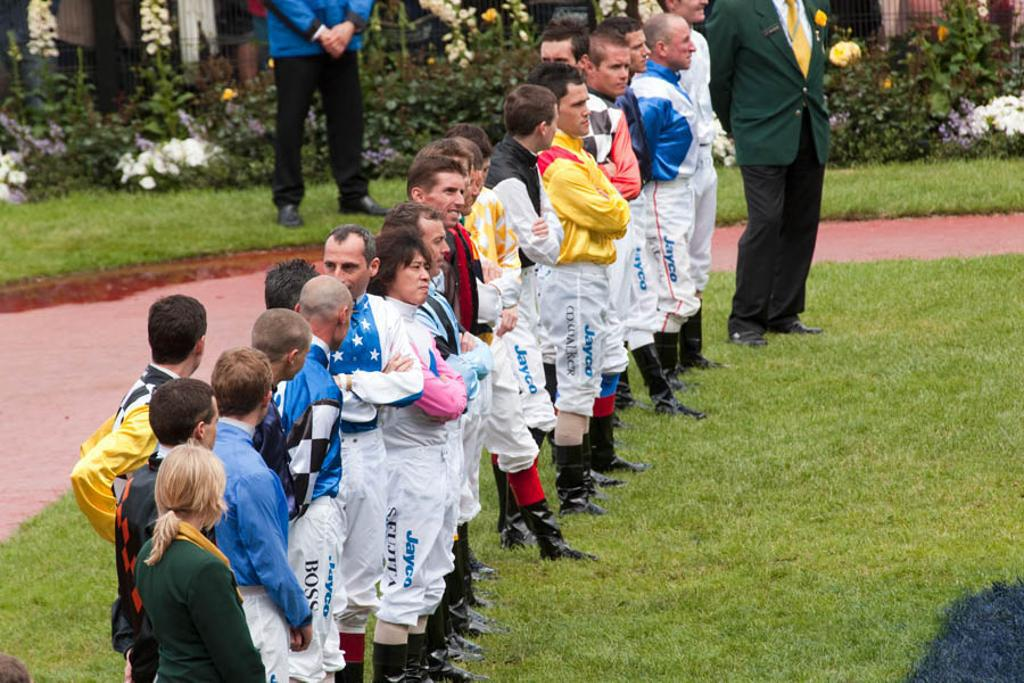face: (324, 238, 370, 299), (424, 170, 466, 227), (391, 246, 430, 304), (414, 218, 452, 276), (553, 79, 591, 136), (540, 42, 583, 92), (595, 44, 631, 93), (666, 23, 698, 70), (460, 150, 491, 197), (190, 402, 220, 450), (619, 31, 650, 72), (540, 105, 558, 148), (679, 1, 709, 21)
